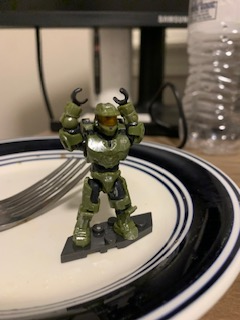chief: (57, 85, 144, 245)
spartan: (55, 83, 142, 243)
up: (58, 81, 140, 170)
